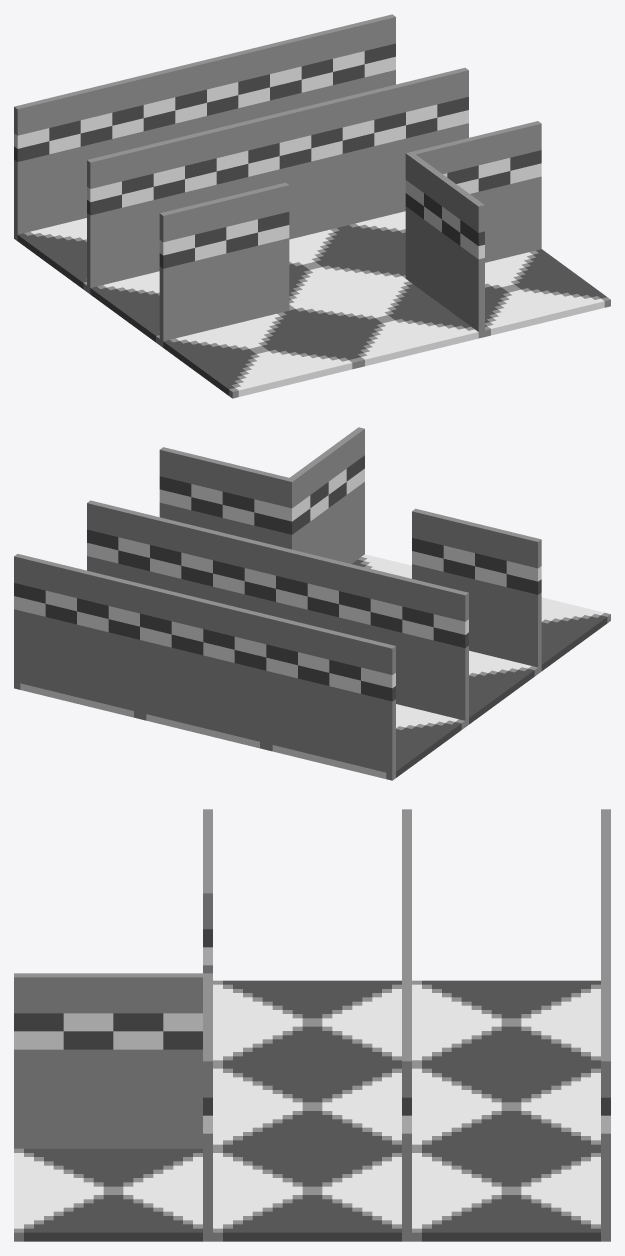
Rendered from level_maze-5.obj.
3 views of the same model, one above another, from view 1: azimuth 30°, elevation 25°; view 2: azimuth 150°, elevation 25°; view 3: azimuth 270°, elevation 25° (orthographic). The views are drawn at different scales.
Visible parts, largest first — view 1: level_maze-5; view 2: level_maze-5; view 3: level_maze-5.
Part boxes in pixels (x1,y1,x2,y2): level_maze-5: (14,14,610,398); level_maze-5: (14,427,610,780); level_maze-5: (14,809,610,1241).
Size of the model in its own units: 60 by 20 by 60.
Materials: 1 (1 with a texture image).
